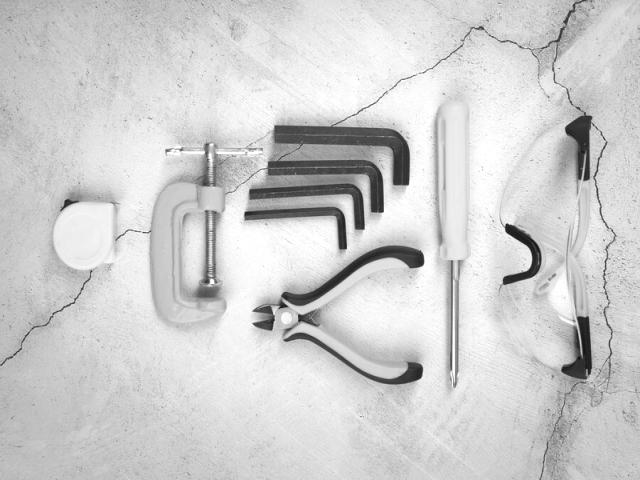Cutting pliers: (254, 246, 424, 383)
Screwdriver: (438, 101, 470, 387)
Tape measure: (54, 200, 115, 270)
